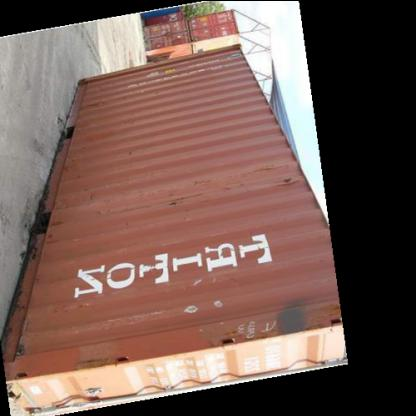Damage: (164, 165, 222, 211), (5, 312, 37, 372), (219, 315, 282, 342), (172, 293, 226, 318), (277, 160, 306, 200), (42, 214, 69, 251), (88, 91, 110, 115)
